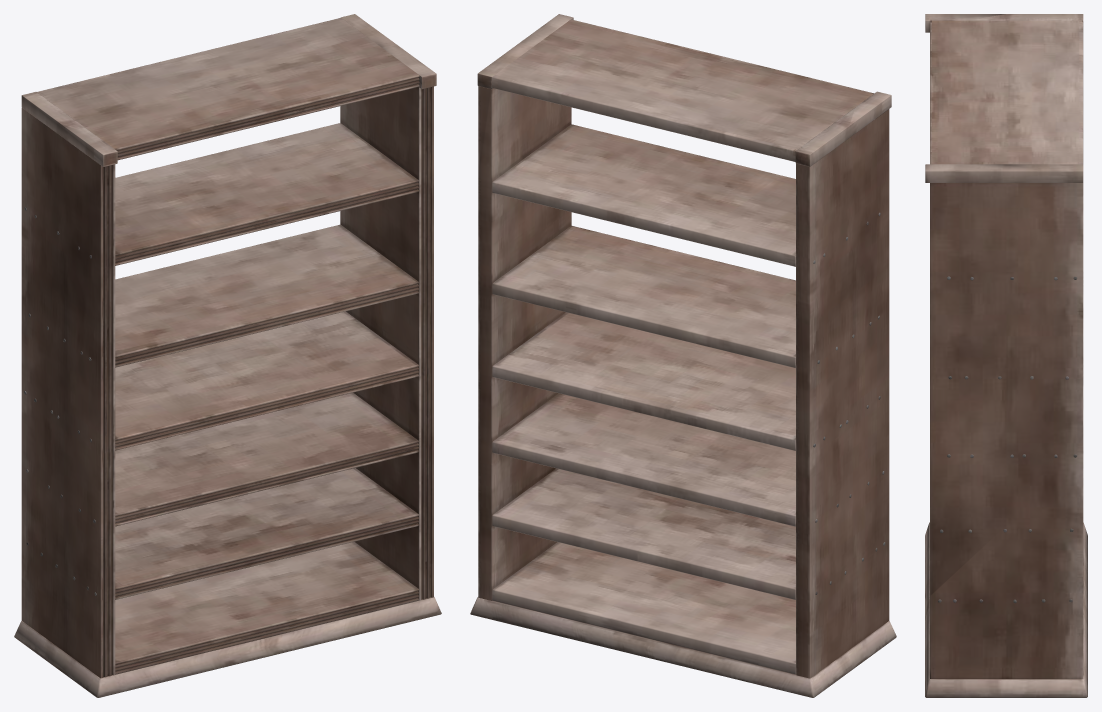
Rendered from bookshelf.glb.
3 views of the same model, side by side, from view 1: azimuth 30°, elevation 25°; view 2: azimuth 150°, elevation 25°; view 3: azimuth 270°, elevation 25° (orthographic). The views are drawn at different scales.
Parts seen in each view (by area): view 1: wooden_bookshelf_worn; view 2: wooden_bookshelf_worn; view 3: wooden_bookshelf_worn.
Part boxes in pixels (x1=…): wooden_bookshelf_worn: x1=14, y1=14, x2=441, y2=697; wooden_bookshelf_worn: x1=470, y1=14, x2=896, y2=697; wooden_bookshelf_worn: x1=925, y1=14, x2=1087, y2=697.
Bounding box in the file's own units: 1.37 × 2.06 × 0.5814.
Materials: 1 (1 with a texture image).
